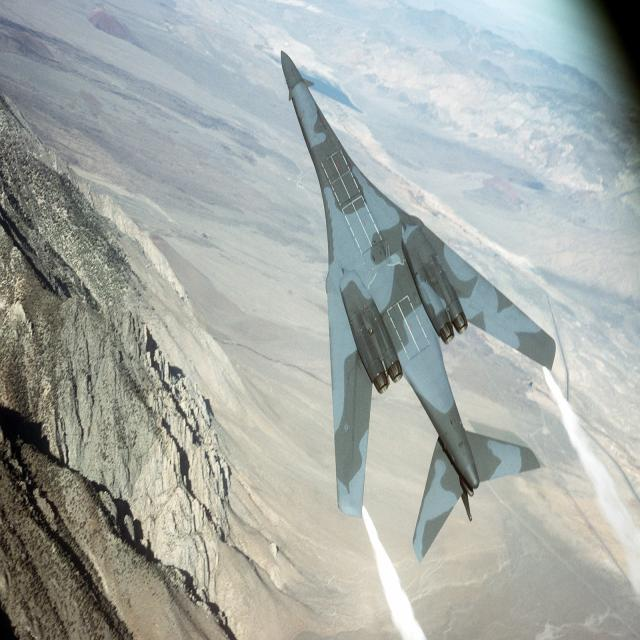MIL_Plane: (280, 49, 556, 565)
